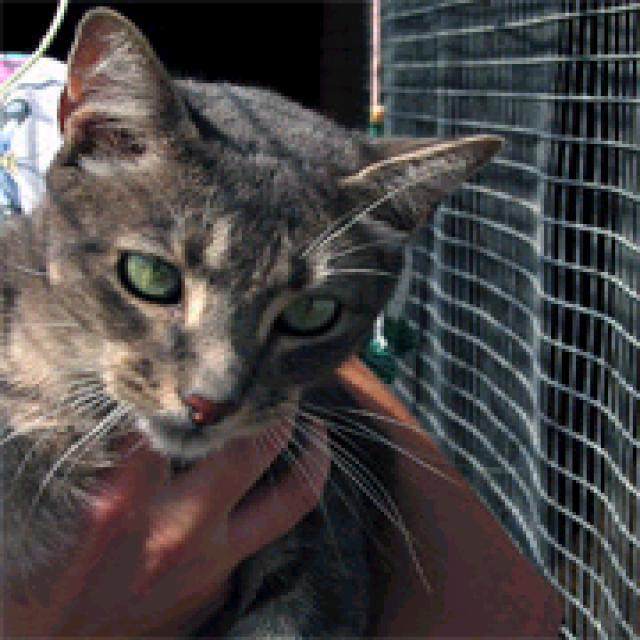Cats: (0, 3, 505, 637)
